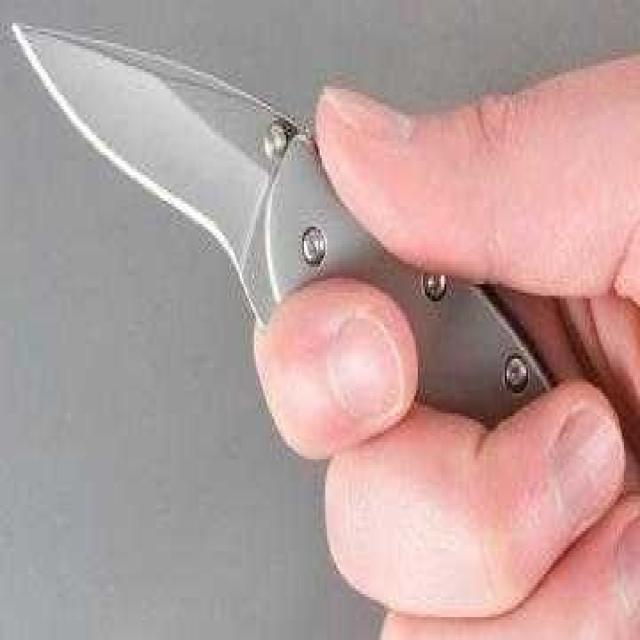Knife: (14, 16, 575, 507)
